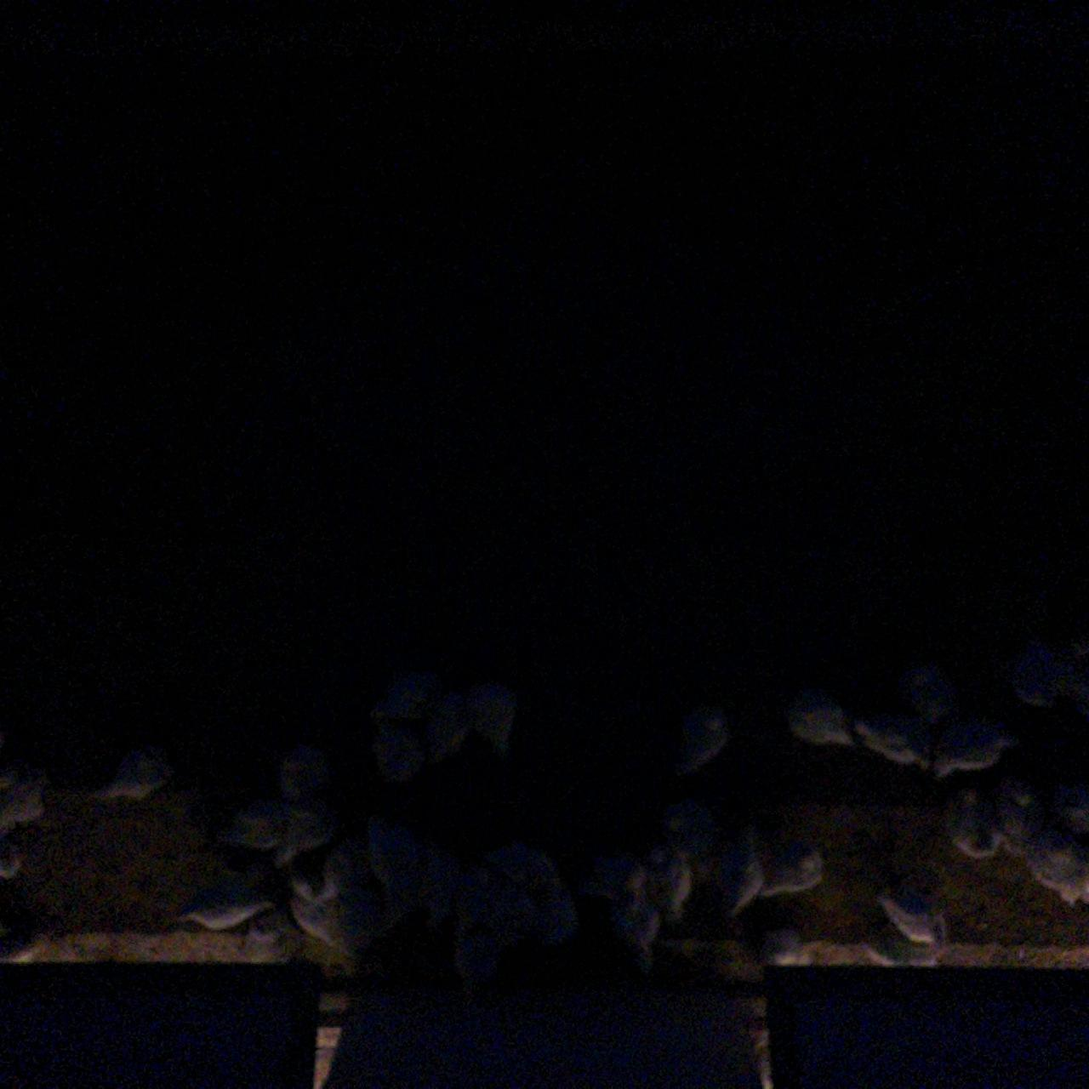chicken: (362, 806, 422, 914), (932, 712, 1023, 776), (448, 901, 508, 995), (871, 877, 948, 950), (282, 894, 377, 952), (853, 705, 935, 772), (280, 838, 358, 907), (1023, 826, 1089, 904), (995, 641, 1066, 713), (99, 740, 180, 801), (940, 787, 1005, 863), (615, 878, 667, 970), (401, 829, 452, 920), (676, 701, 732, 781), (985, 774, 1043, 850), (420, 688, 478, 763), (482, 871, 543, 942), (178, 889, 281, 931), (788, 687, 860, 745), (900, 651, 956, 724), (463, 678, 517, 753), (760, 843, 832, 899), (0, 753, 49, 835), (270, 735, 328, 803), (486, 833, 559, 887), (646, 846, 697, 923), (271, 805, 332, 865), (221, 792, 284, 850), (366, 718, 421, 784), (373, 666, 432, 721), (731, 828, 767, 913), (533, 885, 575, 956), (667, 803, 713, 857), (1052, 778, 1089, 831), (0, 845, 23, 879)
